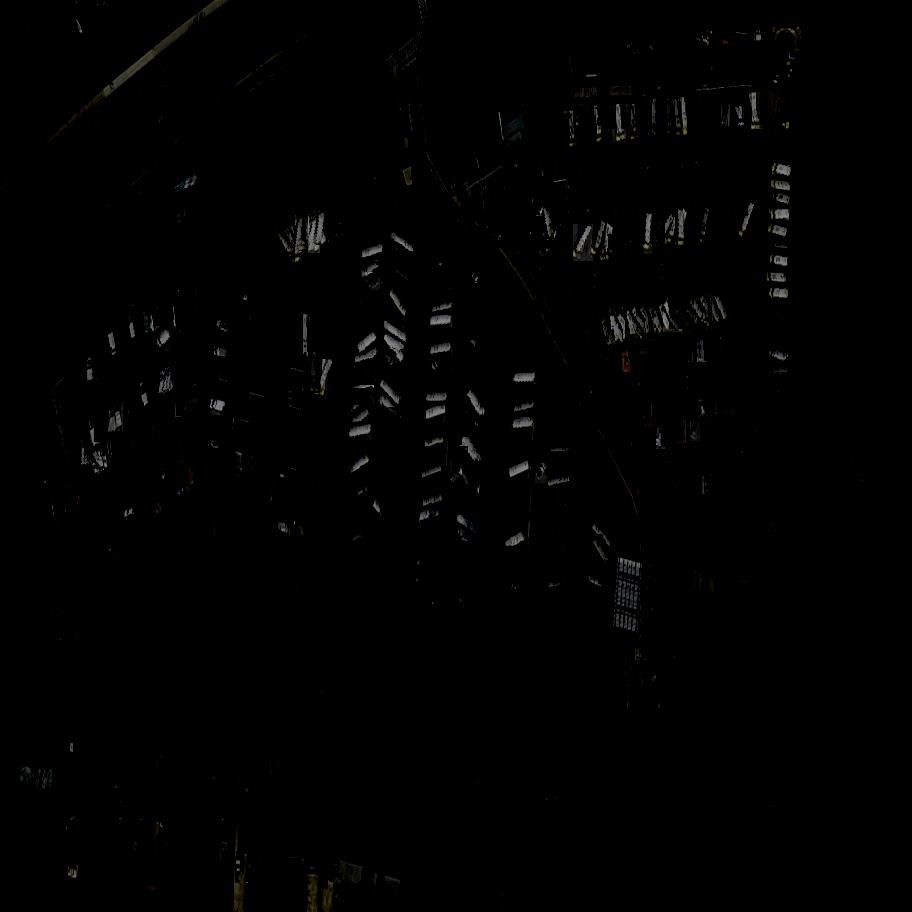large-vehicle: (624, 300, 653, 335), (528, 216, 558, 248), (676, 291, 702, 327), (684, 293, 710, 329), (653, 213, 677, 251), (572, 224, 596, 262), (634, 301, 660, 336), (273, 224, 298, 260), (385, 259, 417, 287), (667, 296, 694, 329), (726, 281, 750, 318), (692, 290, 718, 324), (377, 377, 406, 407), (588, 519, 616, 550), (370, 497, 397, 529), (481, 284, 513, 311), (386, 286, 412, 319), (283, 227, 305, 266), (661, 296, 684, 333), (168, 174, 203, 198), (710, 284, 732, 322), (450, 584, 476, 616), (612, 305, 635, 341), (380, 319, 411, 345), (314, 359, 334, 399), (366, 529, 398, 554), (463, 387, 487, 420), (648, 212, 667, 252), (654, 295, 674, 333), (590, 534, 613, 567), (387, 230, 418, 254), (367, 556, 391, 587), (460, 433, 483, 465), (582, 570, 614, 593), (457, 524, 478, 559), (384, 333, 408, 363), (453, 513, 483, 537), (737, 203, 756, 240), (611, 104, 629, 143), (592, 218, 609, 259), (598, 309, 616, 347), (459, 464, 481, 495), (665, 207, 682, 247), (354, 329, 380, 355), (349, 405, 375, 431), (345, 450, 372, 475), (375, 393, 403, 417), (503, 531, 531, 555), (531, 226, 549, 263), (563, 110, 580, 149), (353, 360, 379, 385), (503, 547, 529, 572), (358, 257, 386, 280), (506, 458, 534, 481), (350, 390, 376, 414), (500, 578, 528, 600), (294, 514, 313, 546), (627, 102, 643, 140), (421, 402, 450, 422), (309, 212, 322, 254), (271, 517, 297, 538), (339, 530, 369, 548), (419, 491, 446, 511), (344, 483, 372, 502), (749, 92, 763, 129), (419, 462, 446, 481), (359, 243, 387, 261), (429, 298, 457, 316), (624, 301, 637, 339), (308, 353, 320, 394), (413, 568, 440, 586), (649, 298, 662, 335), (700, 205, 712, 245), (351, 379, 376, 398), (415, 594, 441, 612), (542, 204, 555, 240), (511, 400, 538, 417), (421, 433, 448, 450), (609, 304, 620, 344), (348, 425, 375, 441), (295, 215, 305, 257), (644, 100, 655, 138), (672, 99, 683, 137), (544, 472, 570, 488), (353, 350, 378, 366), (316, 206, 326, 246), (648, 695, 669, 714), (767, 346, 789, 364), (594, 106, 604, 145), (428, 343, 454, 358), (644, 212, 653, 254), (770, 192, 792, 209), (679, 98, 689, 135), (603, 223, 612, 263), (407, 93, 416, 133), (304, 217, 313, 256), (267, 480, 278, 511), (768, 223, 789, 239), (768, 254, 790, 269), (771, 163, 793, 178), (414, 555, 439, 568), (418, 509, 441, 523), (547, 443, 573, 455), (509, 418, 535, 430), (539, 579, 563, 592), (652, 99, 660, 137), (769, 285, 789, 300), (430, 315, 453, 328), (768, 363, 789, 377), (644, 668, 661, 685), (424, 392, 449, 403), (770, 179, 791, 192), (678, 209, 685, 247), (513, 373, 537, 384), (666, 100, 673, 136), (770, 210, 790, 222), (644, 712, 661, 725), (304, 314, 309, 356), (768, 272, 785, 283), (712, 286, 717, 323), (771, 240, 788, 250)
small-vehicle: (454, 210, 479, 240), (152, 327, 176, 352), (93, 412, 111, 442), (86, 447, 103, 478), (379, 412, 400, 435), (251, 561, 266, 593), (91, 448, 109, 474), (533, 460, 552, 484), (134, 413, 149, 443), (214, 316, 235, 337), (661, 476, 676, 505), (172, 554, 187, 583), (102, 538, 119, 563), (168, 391, 183, 419), (772, 54, 784, 89), (145, 549, 160, 577), (451, 446, 472, 466), (122, 395, 137, 422), (119, 540, 134, 567), (464, 330, 484, 350), (456, 418, 476, 438), (530, 525, 548, 547), (383, 349, 400, 372), (106, 406, 119, 436), (428, 356, 447, 376), (109, 537, 123, 564), (170, 473, 184, 500), (537, 562, 555, 583), (386, 243, 407, 261), (675, 395, 689, 421), (97, 534, 111, 560), (89, 418, 101, 448), (520, 185, 538, 205), (713, 388, 726, 415), (156, 457, 170, 482), (114, 539, 128, 564), (435, 266, 454, 284), (689, 475, 702, 501), (147, 464, 160, 490), (451, 461, 464, 487), (211, 369, 232, 385), (140, 382, 152, 410), (697, 394, 711, 418), (511, 151, 525, 175), (249, 479, 261, 507), (630, 347, 643, 372), (633, 407, 646, 432), (161, 451, 174, 476), (131, 475, 144, 500), (168, 447, 180, 474), (435, 252, 454, 269), (163, 364, 174, 393), (515, 199, 530, 220), (135, 312, 148, 336), (139, 414, 151, 440), (687, 396, 699, 422), (583, 202, 595, 227), (720, 388, 732, 413), (157, 551, 169, 576), (181, 469, 194, 492), (512, 213, 525, 236), (129, 314, 140, 341), (736, 408, 747, 435), (640, 405, 651, 432), (656, 401, 667, 428), (662, 397, 673, 424), (302, 415, 316, 436), (114, 402, 124, 431), (187, 559, 197, 588), (439, 282, 457, 298), (701, 475, 712, 501), (599, 101, 610, 127), (672, 394, 683, 420), (131, 545, 144, 567), (127, 478, 138, 504), (210, 396, 225, 415), (99, 442, 109, 470), (672, 420, 684, 443), (650, 402, 661, 427), (137, 547, 148, 572), (184, 383, 197, 404), (366, 273, 382, 290), (158, 369, 168, 396), (694, 391, 704, 418), (716, 473, 727, 497), (609, 235, 621, 257), (734, 105, 746, 127), (706, 473, 717, 497), (152, 553, 164, 575), (64, 529, 76, 551), (236, 561, 247, 585), (108, 332, 118, 358), (607, 104, 617, 130), (469, 268, 482, 288), (535, 160, 548, 180), (207, 436, 222, 453), (152, 490, 163, 513), (143, 498, 152, 526), (41, 790, 50, 817), (73, 523, 82, 550), (722, 333, 733, 355), (131, 830, 142, 852), (144, 307, 152, 337), (721, 103, 731, 127), (459, 406, 474, 422), (539, 534, 553, 551), (425, 375, 442, 389), (359, 291, 373, 308), (177, 391, 186, 417), (742, 408, 751, 434), (704, 390, 713, 416), (612, 356, 623, 377), (529, 90, 540, 111), (697, 340, 707, 363), (662, 425, 672, 448), (667, 424, 677, 447), (178, 472, 188, 495), (179, 441, 188, 466), (622, 104, 631, 129), (542, 593, 558, 607), (657, 428, 667, 450), (169, 477, 177, 504), (149, 495, 158, 519), (82, 438, 89, 468), (215, 343, 228, 359), (106, 439, 114, 465), (659, 348, 668, 371), (729, 331, 738, 354), (580, 120, 589, 143), (622, 350, 631, 373), (128, 543, 137, 566), (143, 550, 152, 573), (300, 494, 312, 511), (193, 280, 200, 309), (660, 476, 667, 505), (676, 344, 686, 364), (627, 228, 635, 253), (684, 396, 692, 421), (166, 554, 174, 579), (155, 460, 163, 485), (302, 464, 313, 482), (680, 345, 691, 363), (62, 806, 71, 828), (140, 471, 149, 493), (146, 410, 154, 434), (681, 478, 689, 502), (53, 886, 69, 898), (61, 831, 69, 855), (679, 420, 687, 444), (468, 281, 478, 300), (192, 381, 201, 402), (686, 475, 693, 502), (249, 563, 256, 590), (123, 507, 140, 518), (151, 408, 159, 431), (169, 558, 177, 581), (96, 534, 104, 557), (642, 353, 652, 371), (693, 337, 700, 362), (691, 423, 700, 442), (88, 357, 94, 385), (731, 387, 739, 408), (737, 196, 745, 217), (652, 426, 659, 450), (138, 496, 145, 520), (627, 351, 636, 369), (466, 360, 475, 378), (120, 485, 127, 508), (417, 540, 429, 553), (740, 473, 747, 495), (86, 528, 93, 550), (340, 209, 347, 231), (666, 346, 673, 367), (638, 352, 646, 370), (68, 865, 79, 878), (575, 106, 581, 129), (164, 482, 170, 505), (62, 518, 71, 533), (688, 344, 695, 363), (725, 214, 731, 236), (648, 404, 654, 426), (176, 448, 182, 470), (133, 418, 138, 444), (186, 441, 192, 462), (127, 482, 132, 507), (542, 611, 554, 621), (381, 493, 389, 508), (189, 463, 194, 486), (636, 650, 647, 660), (630, 708, 639, 720), (259, 470, 265, 488), (167, 394, 171, 419), (669, 397, 673, 422), (655, 480, 659, 505), (91, 531, 96, 551), (161, 485, 165, 508), (21, 854, 30, 864), (672, 345, 676, 366), (720, 338, 724, 359), (349, 474, 358, 483), (184, 389, 188, 409), (240, 858, 245, 874), (559, 218, 565, 230), (712, 390, 715, 414), (705, 339, 708, 361), (271, 574, 274, 595), (147, 472, 149, 492)
